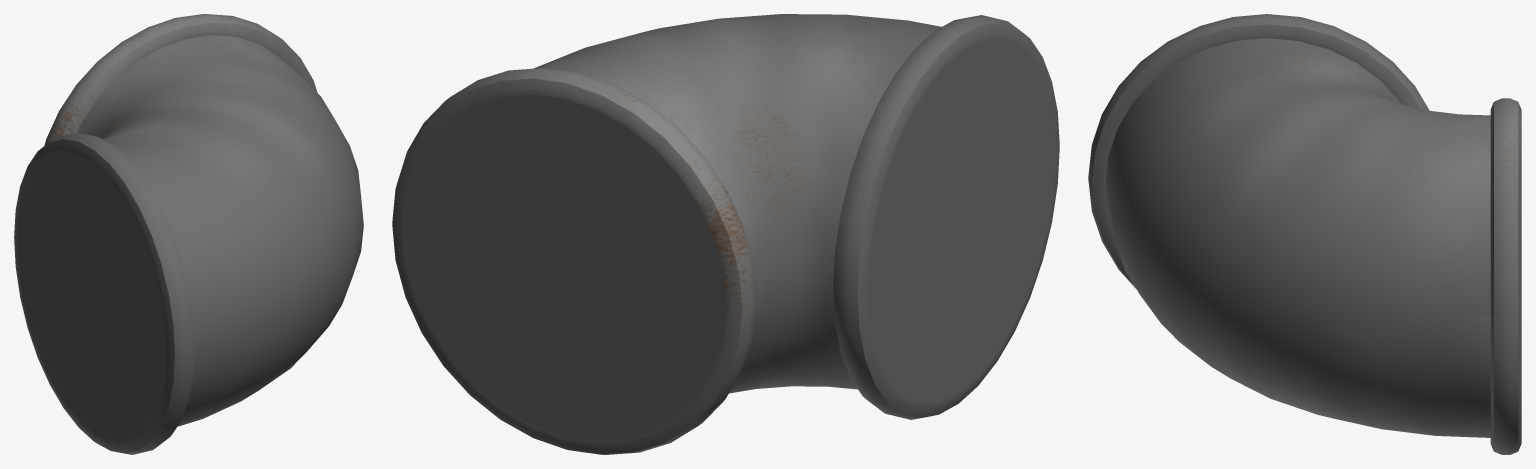
The model's file is Pipe_90.fbx.
3 views of the same model, side by side, from view 1: azimuth 30°, elevation 25°; view 2: azimuth 150°, elevation 25°; view 3: azimuth 270°, elevation 25° (orthographic). The views are drawn at different scales.
Visible parts, largest first — view 1: 90_Pipe; view 2: 90_Pipe; view 3: 90_Pipe.
Boxes of the visible parts, x1=… form: 90_Pipe: x1=14, y1=14, x2=363, y2=454; 90_Pipe: x1=392, y1=14, x2=1059, y2=454; 90_Pipe: x1=1088, y1=14, x2=1521, y2=454.
Bounding box in the file's own units: 265 × 221 × 268.
